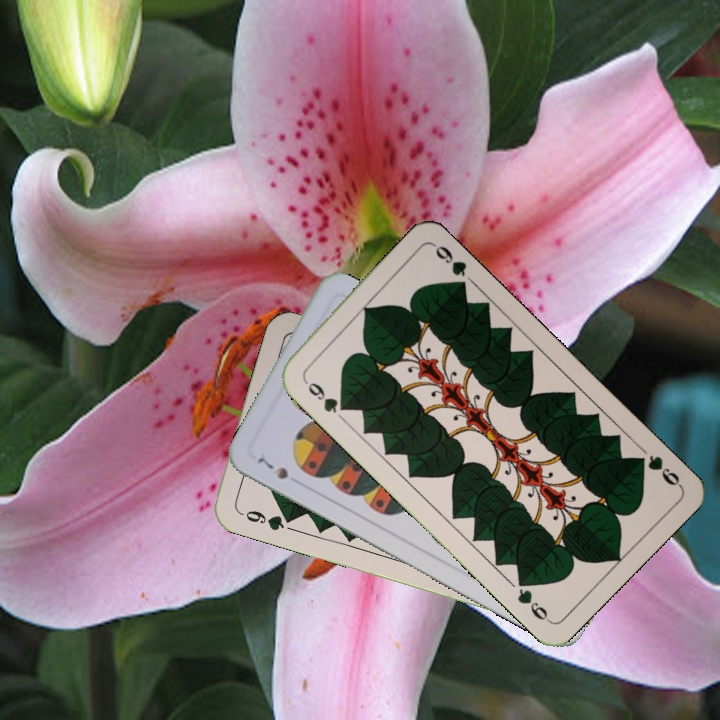G9: (299, 374, 351, 416), (630, 450, 684, 489), (235, 506, 295, 534)
S7: (253, 453, 291, 482)
